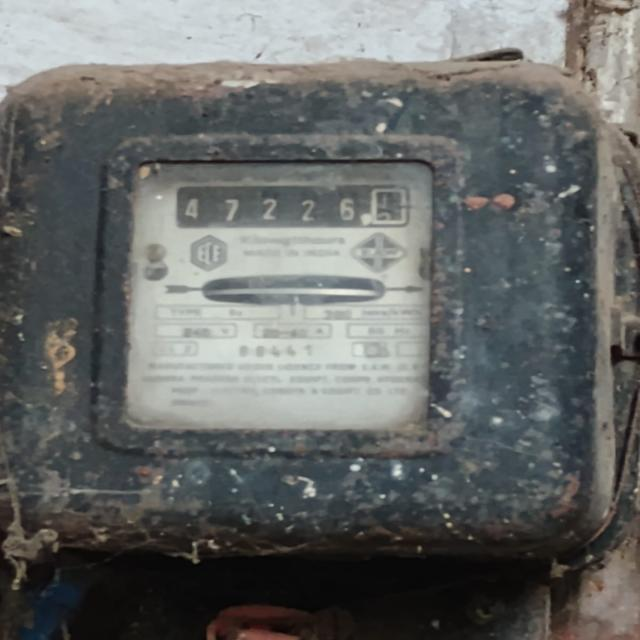display: (169, 184, 416, 237)
